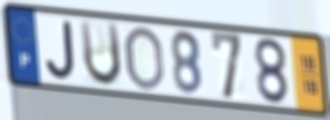7: (208, 29, 244, 104)
8: (252, 37, 290, 107), (169, 28, 203, 98)
J: (44, 18, 78, 83)
O: (124, 24, 167, 93)
U: (77, 18, 124, 89)
